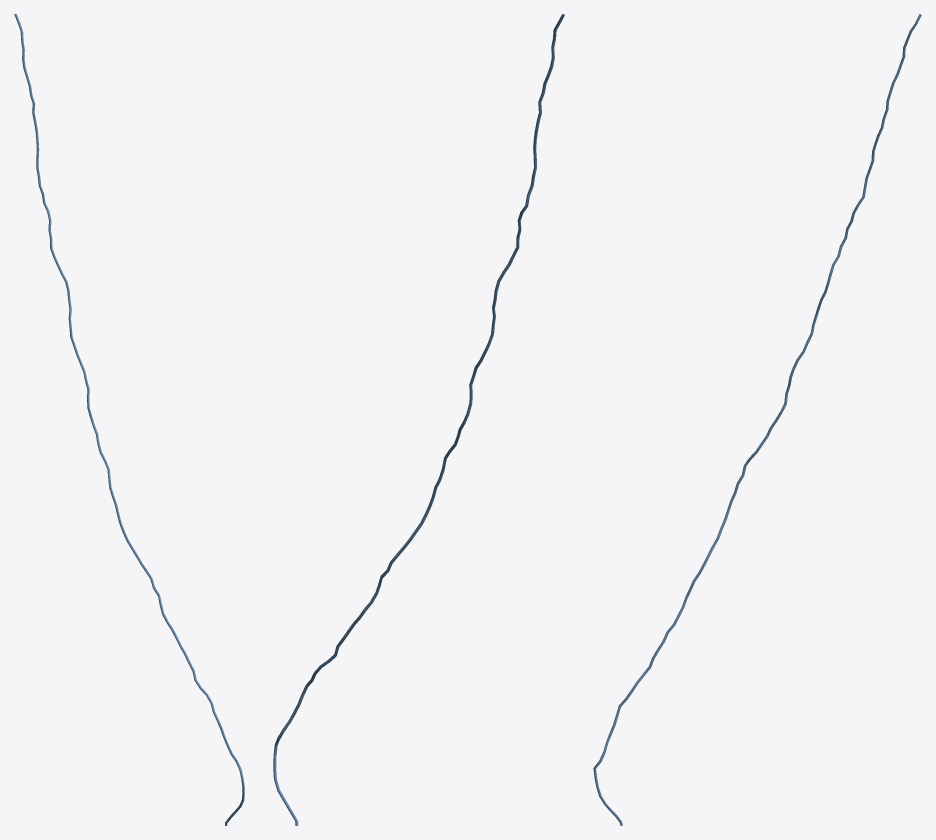
File: sweep378.fbx
The picture shows the model from 3 angles, left to right: view 1: azimuth 30°, elevation 25°; view 2: azimuth 210°, elevation 25°; view 3: azimuth 270°, elevation 25°; orthographic projection. The views are drawn at different scales.
Parts seen in each view (by area): view 1: sweep378; view 2: sweep378; view 3: sweep378.
Boxes of the visible parts, <box> form: sweep378: <box>14,14,244,825</box>; sweep378: <box>273,14,564,825</box>; sweep378: <box>593,14,921,825</box>.
Size of the model in its own units: 0.7337 by 6.35 by 2.44.
